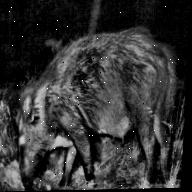boar: (0, 18, 190, 192)
